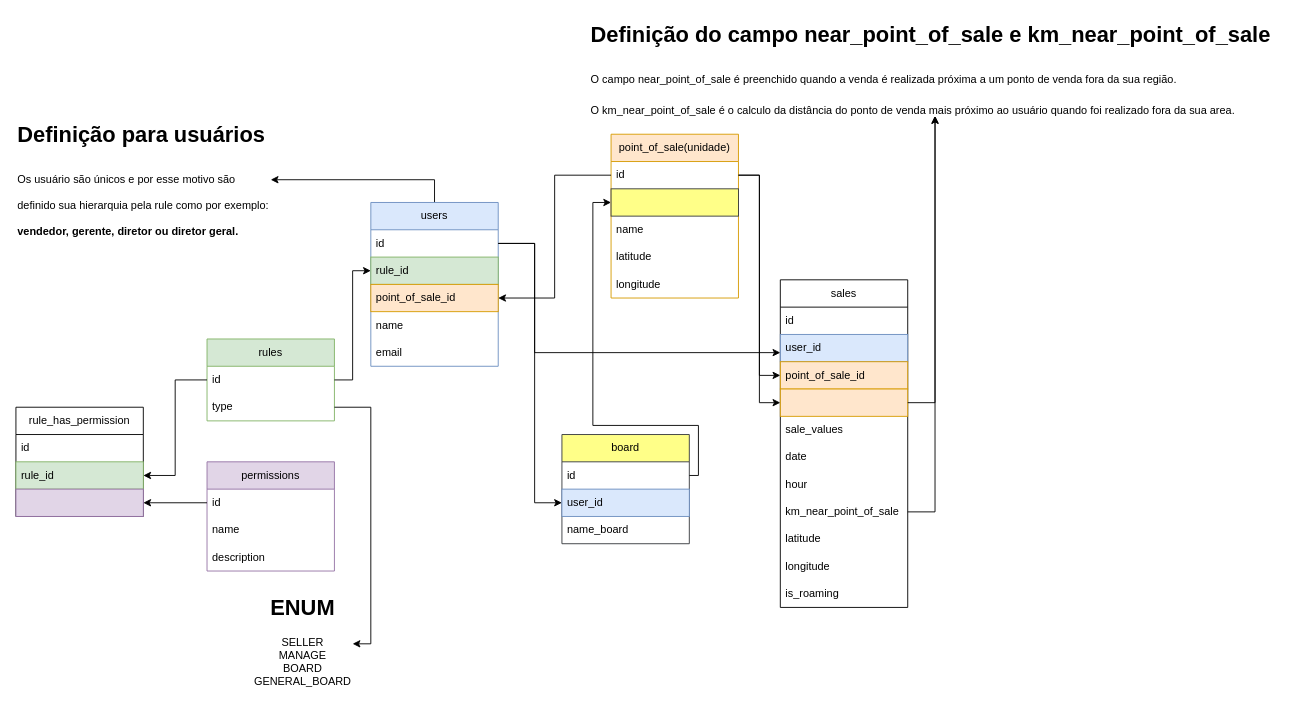
Image size: 1297x716. Some labels were removed from this diagram. The shapes that lost their labels are listed below. From the top down, each one's centre as x and y in pixels, then its label:
At point 674,202: "board_id".
At point 843,402: "near_ point_of_sale_id".
At point 79,502: "permission_id".
